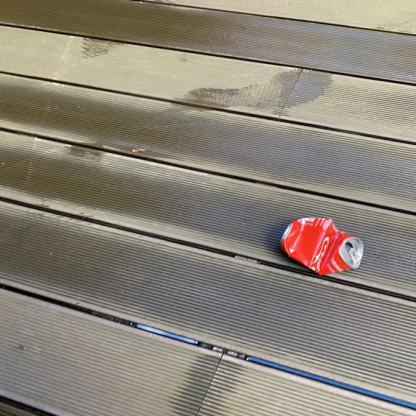trash: (275, 214, 364, 276)
